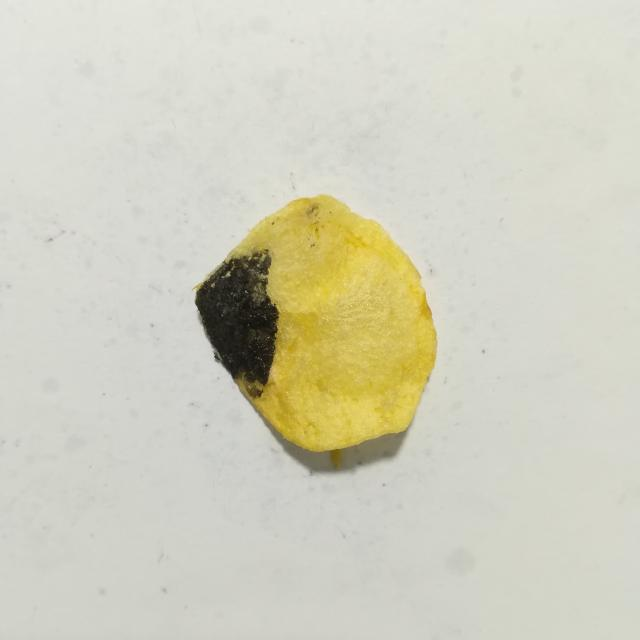chip: (195, 196, 436, 466)
damaged: (195, 250, 278, 385)
semi-damaged: (245, 383, 264, 398)
